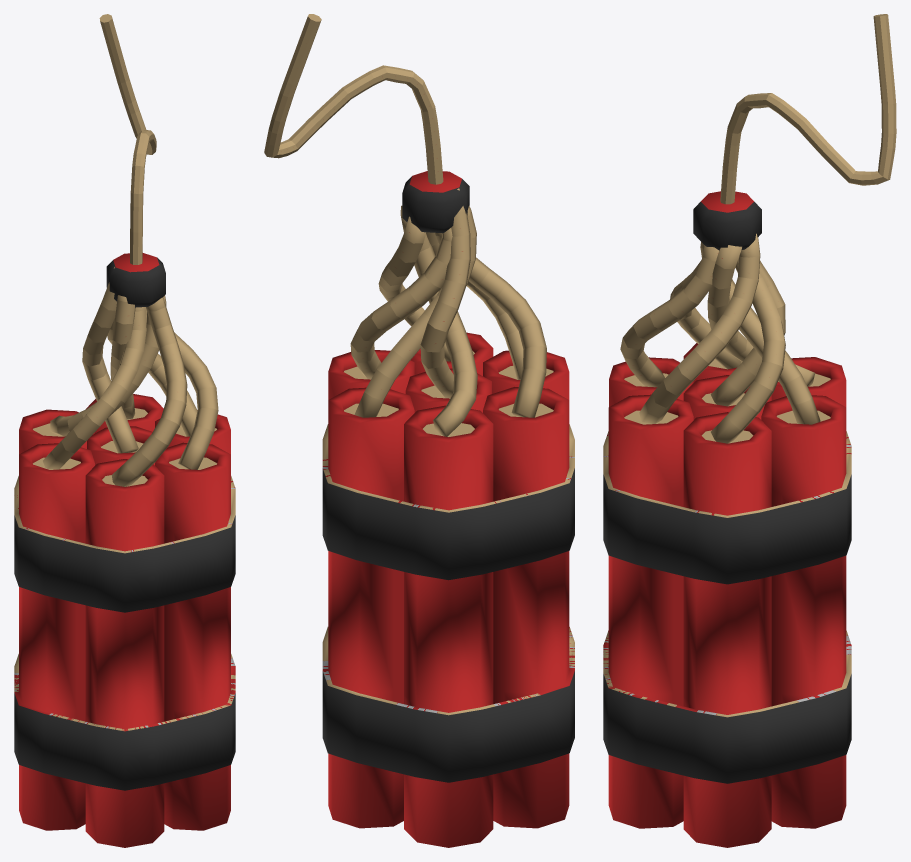
Rendered from dynamite.fbx.
The picture shows the model from 3 angles, left to right: view 1: azimuth 30°, elevation 25°; view 2: azimuth 150°, elevation 25°; view 3: azimuth 270°, elevation 25°; orthographic projection. The views are drawn at different scales.
Parts seen in each view (by area): view 1: Dynamite; view 2: Dynamite; view 3: Dynamite.
Boxes of the visible parts, box(x1,y1,x2,y2) form: Dynamite: box(14, 14, 235, 847); Dynamite: box(264, 14, 574, 847); Dynamite: box(603, 14, 896, 847).
Bounding box in the file's own units: 37.48 × 121 × 39.97.
